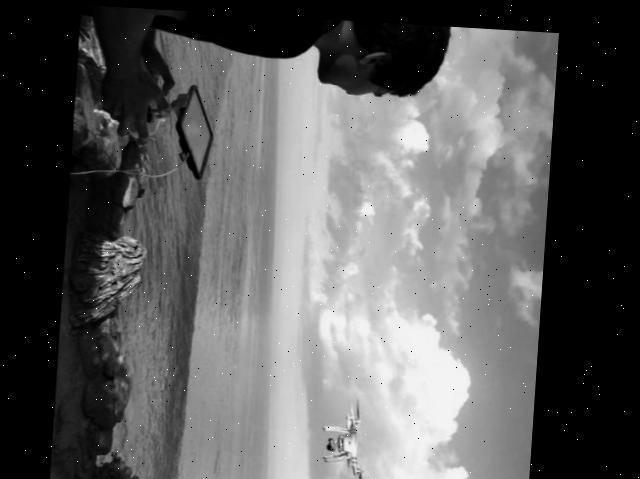drone: (325, 389, 377, 479)
